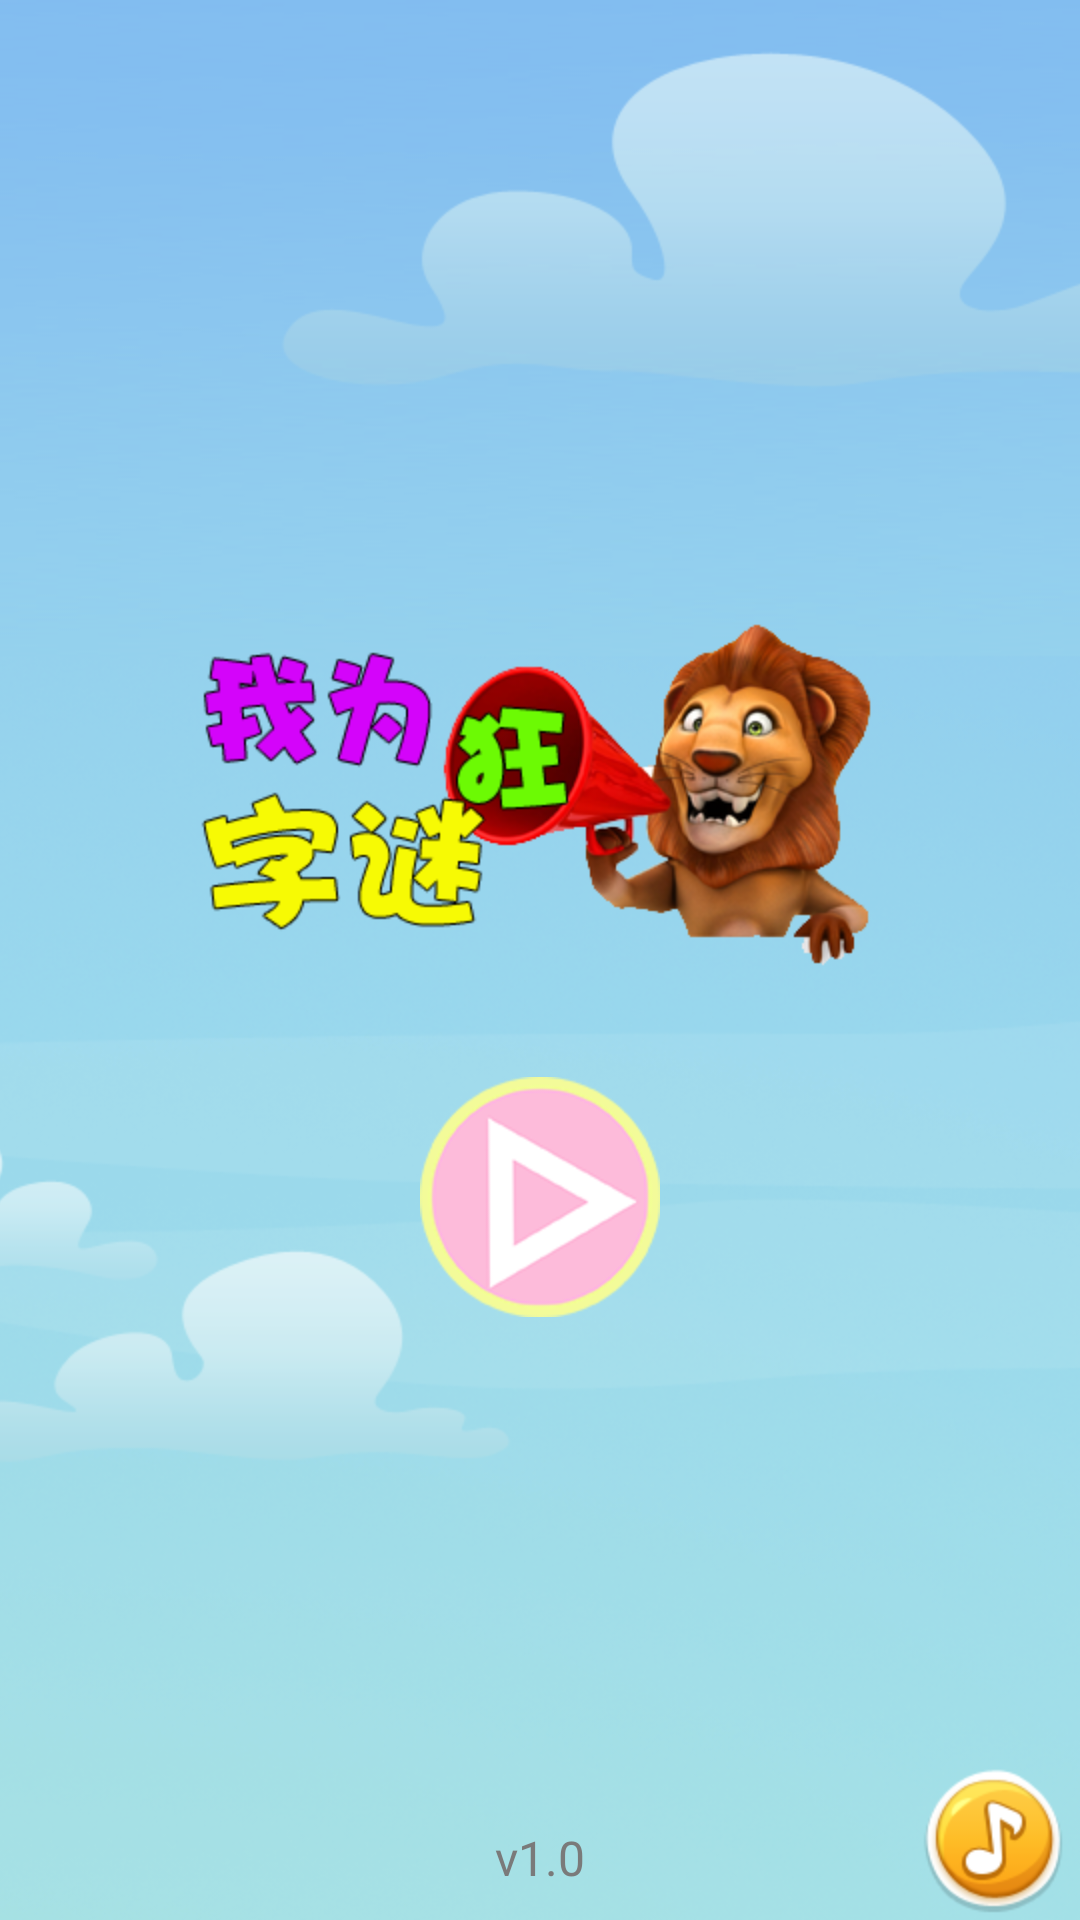

Locate icon controls on the screen. Image size 1080 × 1920, boxes as (x1, y1, x2, y2).
start: (420, 1077, 660, 1317)
